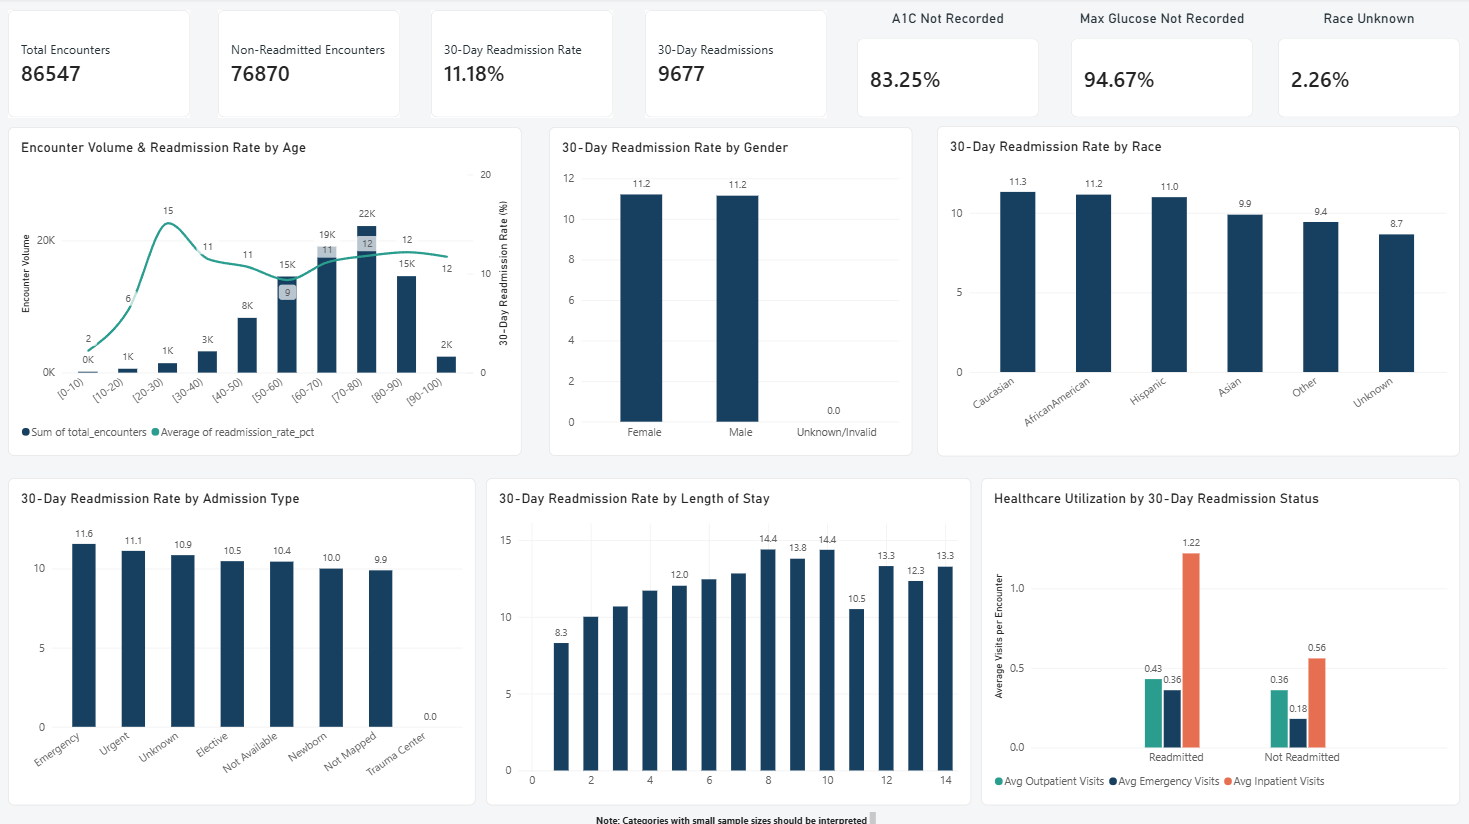

The page's visual inventory and layout, read from the dashboard file:
{"tool":"powerbi","page":{"name":"Executive Overview","canvas":[1920,1080],"ordinal":0},"visuals":[{"type":"cardVisual","fields":{"Data":["Sum(reporting vw_readmission_kpi.total_encounters)"]},"box":[10.1,15.8,237.1,140.8],"z":0},{"type":"cardVisual","fields":{"Data":["Sum(reporting vw_readmission_kpi.readmitted_30d_encounters)"]},"box":[841.2,15.2,237.1,140.8],"z":1000},{"type":"cardVisual","fields":{"Data":["reporting vw_data_completeness.Readmission Rate"]},"box":[562.2,15.2,237.1,140.8],"z":2000},{"type":"cardVisual","fields":{"Data":["Sum(reporting vw_readmission_kpi.non_readmitted_30d_encounters)"]},"box":[284.5,15.2,237.1,140.8],"z":3000},{"type":"lineClusteredColumnComboChart","title":"Encounter Volume & Readmission Rate by Age","fields":{"Category":["reporting vw_readmission_by_age.age_group"],"Y":["Sum(reporting vw_readmission_by_age.total_encounters)"],"Y2":["Avg(reporting vw_readmission_by_age.readmission_rate_pct)"]},"box":[10.7,168.7,670.2,429.4],"z":4000},{"type":"clusteredColumnChart","title":"30-Day Readmission Rate by Gender","fields":{"Category":["reporting vw_readmission_by_gender.gender"],"Y":["Avg(reporting vw_readmission_by_gender.readmission_rate_pct)"]},"box":[716.2,168.7,473.9,429.4],"z":5000},{"type":"clusteredColumnChart","title":"30-Day Readmission Rate by Race","fields":{"Category":["reporting vw_readmission_by_race.race"],"Y":["Avg(reporting vw_readmission_by_race.readmission_rate_pct)"]},"box":[1222.2,167.2,682.4,430.9],"z":6000},{"type":"clusteredColumnChart","title":"30-Day Readmission Rate by Admission Type","fields":{"Category":["reporting vw_readmission_by_admission_type.admission_type_description"],"Y":["Avg(reporting vw_readmission_by_admission_type.readmission_rate_pct)"]},"box":[10.4,626.1,610.4,426.5],"z":7000},{"type":"clusteredColumnChart","title":"30-Day Readmission Rate by Length of Stay","fields":{"Category":["reporting vw_readmission_by_los.length_of_stay_days"],"Y":["Avg(reporting vw_readmission_by_los.readmission_rate_pct)"]},"box":[633.9,626.1,632.6,426.5],"z":8000},{"type":"clusteredColumnChart","title":"Healthcare Utilization by 30-Day Readmission Status","fields":{"Category":["reporting vw_utilization_by_outcome.Readmission Status"],"Y":["Avg(reporting vw_utilization_by_outcome.avg_outpatient_visits)","Avg(reporting vw_utilization_by_outcome.avg_emergency_visits)","Avg(reporting vw_utilization_by_outcome.avg_inpatient_visits)"]},"box":[1279.6,626.1,624.8,426.5],"z":9000},{"type":"cardVisual","title":"A1C Not Recorded","fields":{"Data":["reporting vw_data_completeness.A1C Not Recorded Display"]},"box":[1117.5,15.2,237.1,140.8],"z":10000},{"type":"cardVisual","title":"Max Glucose Not Recorded","fields":{"Data":["reporting vw_data_completeness.Max Glucose Not Recorded Display"]},"box":[1396.5,15.2,237.6,140.9],"z":11000},{"type":"cardVisual","title":"Race Unknown","fields":{"Data":["reporting vw_data_completeness.Race Unknown Display"]},"box":[1667.2,15.2,237.6,140.9],"z":12000},{"type":"textbox","box":[777.4,1061.7,365.2,18.3],"z":13000}]}

Visuals, with their boxes in screenshot pixels (x1, y1, x2, y2), scaled from the page's 1920x1080 canvas onto the 1469x824 screenshot:
cardVisual - Sum(reporting vw_readmission_kpi.total_encounters): BBox(8, 12, 189, 119)
cardVisual - Sum(reporting vw_readmission_kpi.readmitted_30d_encounters): BBox(644, 12, 825, 119)
cardVisual - reporting vw_data_completeness.Readmission Rate: BBox(430, 12, 612, 119)
cardVisual - Sum(reporting vw_readmission_kpi.non_readmitted_30d_encounters): BBox(218, 12, 399, 119)
"Encounter Volume & Readmission Rate by Age" lineClusteredColumnComboChart: BBox(8, 129, 521, 456)
"30-Day Readmission Rate by Gender" clusteredColumnChart: BBox(548, 129, 911, 456)
"30-Day Readmission Rate by Race" clusteredColumnChart: BBox(935, 128, 1457, 456)
"30-Day Readmission Rate by Admission Type" clusteredColumnChart: BBox(8, 478, 475, 803)
"30-Day Readmission Rate by Length of Stay" clusteredColumnChart: BBox(485, 478, 969, 803)
"Healthcare Utilization by 30-Day Readmission Status" clusteredColumnChart: BBox(979, 478, 1457, 803)
"A1C Not Recorded" cardVisual: BBox(855, 12, 1036, 119)
"Max Glucose Not Recorded" cardVisual: BBox(1068, 12, 1250, 119)
"Race Unknown" cardVisual: BBox(1276, 12, 1457, 119)
textbox: BBox(595, 810, 874, 823)
